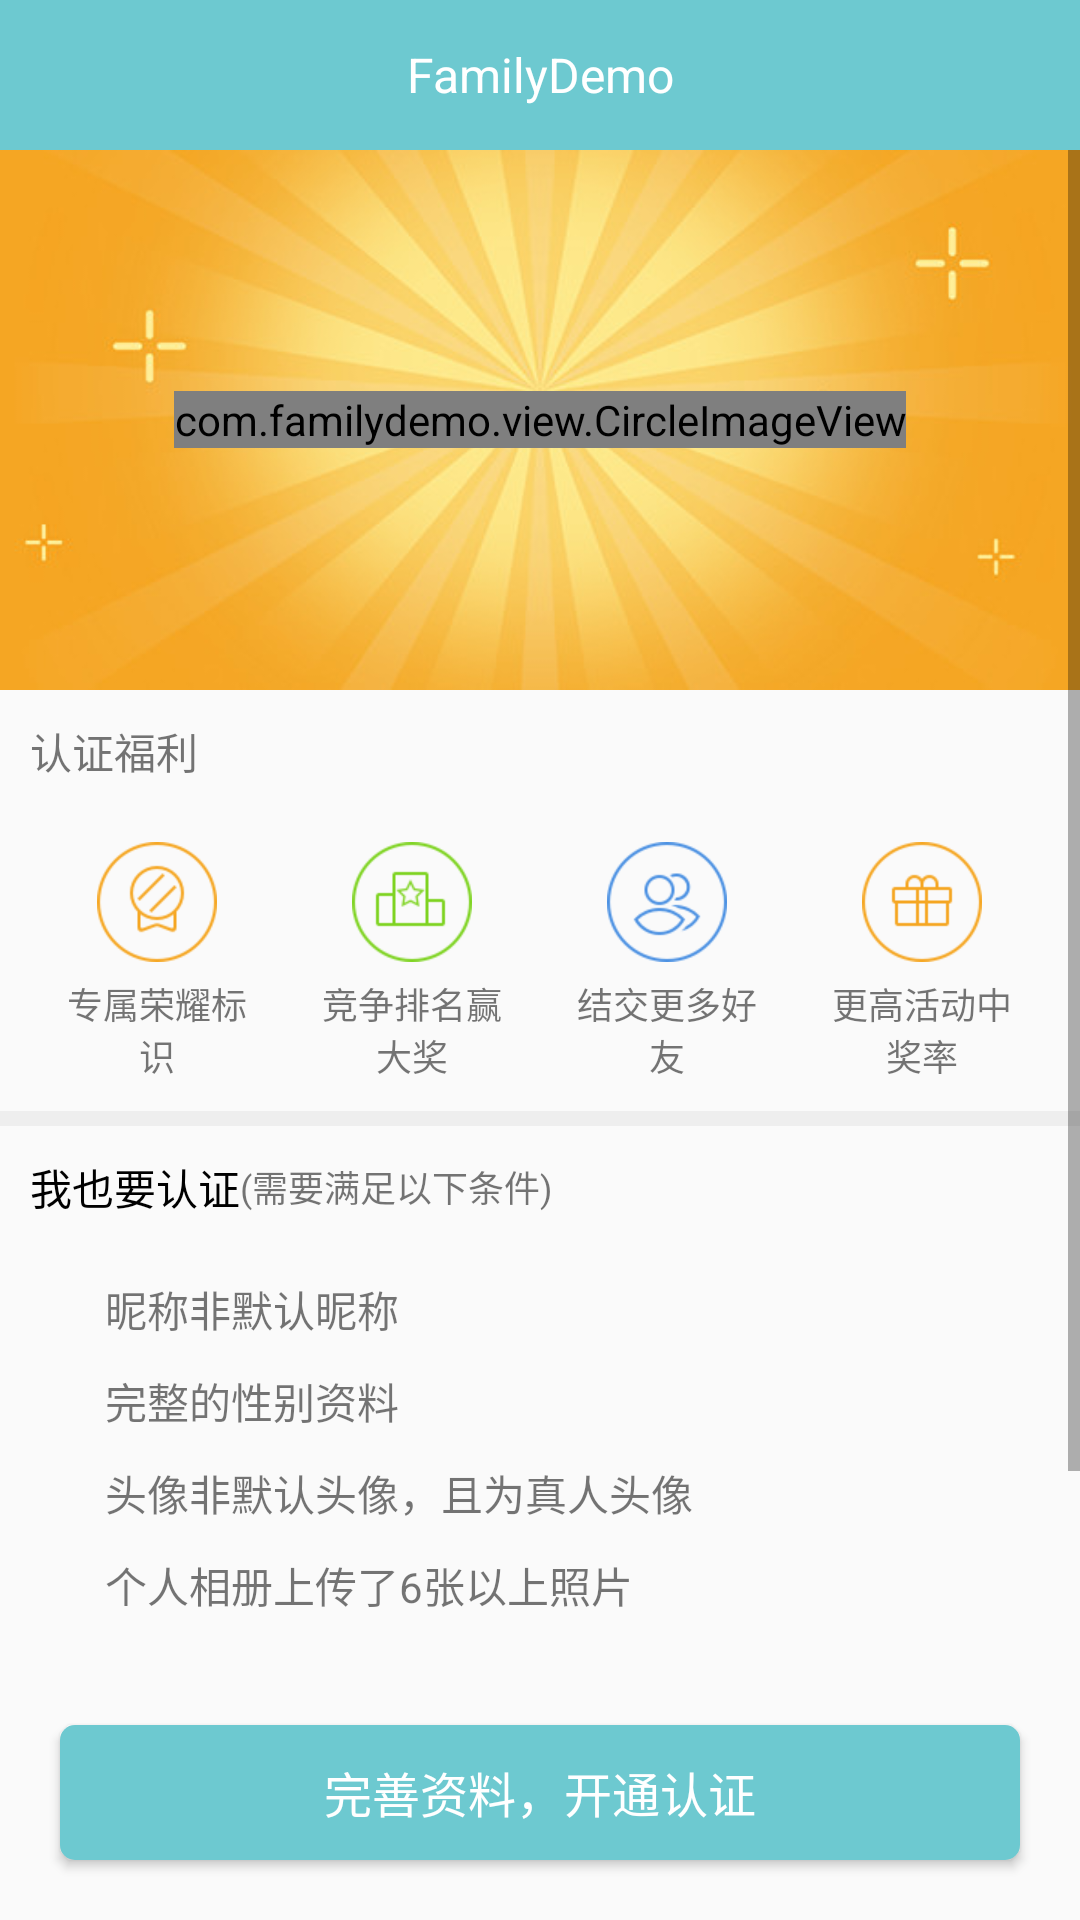

Named icons in this screenshot (1080px×1920px) and their centers, (x,y):
gift: (922,902)
